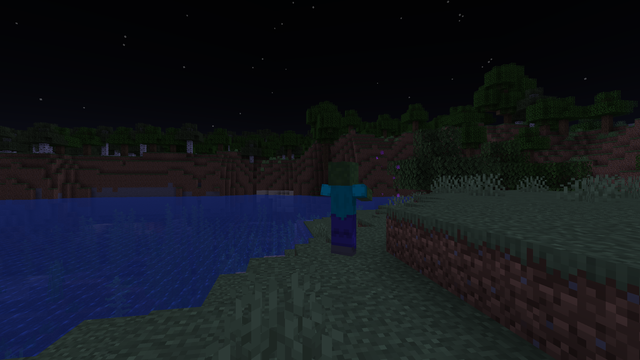zombies: (327, 164, 360, 258)
